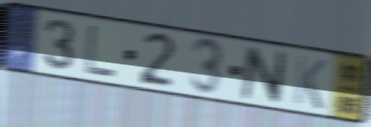2: (139, 31, 178, 91)
3: (188, 35, 226, 101), (40, 18, 78, 73)
K: (291, 52, 329, 112)
L: (84, 23, 119, 80)
N: (238, 44, 289, 107)
